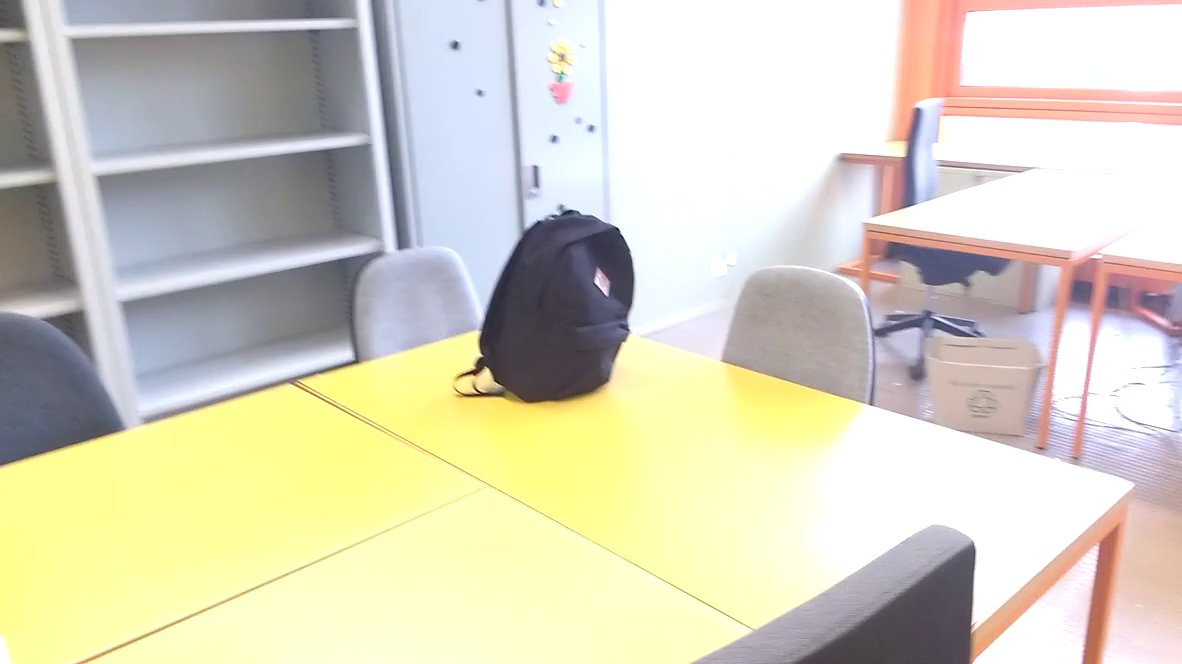bag: (448, 202, 644, 406)
box: (910, 327, 1052, 451)
chair: (865, 88, 1003, 387), (701, 253, 901, 435), (1, 304, 133, 490), (338, 241, 498, 364)
